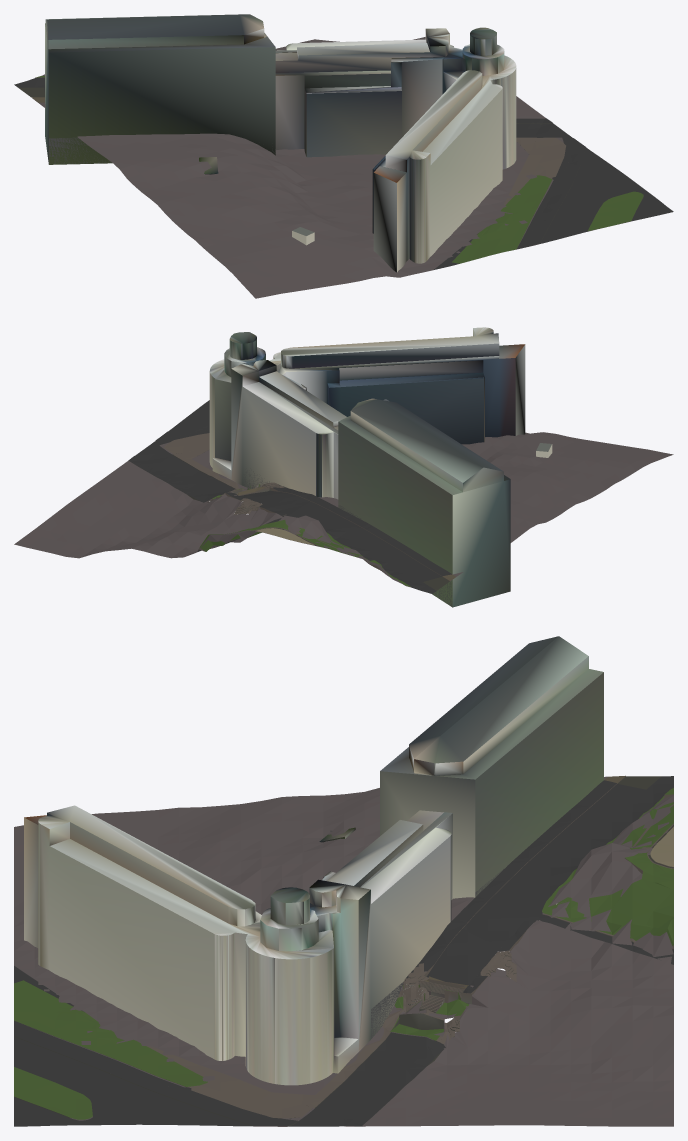
3 renders of one model, top to bottom at view 1: azimuth 30°, elevation 25°; view 2: azimuth 150°, elevation 25°; view 3: azimuth 270°, elevation 25°, orthographic. The views are drawn at different scales.
Parts seen in each view (by area): view 1: c_p05_m14; view 2: c_p05_m14; view 3: c_p05_m14.
Boxes of the visible parts, <box> form: c_p05_m14: <box>14,14,673,298</box>; c_p05_m14: <box>14,327,673,607</box>; c_p05_m14: <box>14,636,673,1126</box>.
Size of the model in its own units: 135 by 44.31 by 128.
